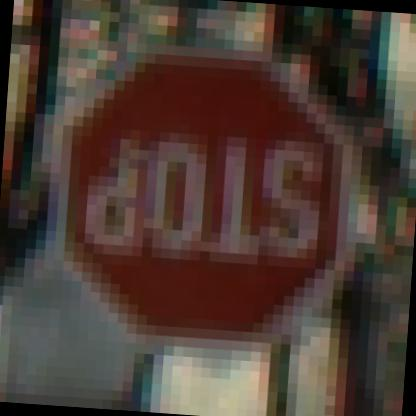stop: (8, 14, 374, 397)
